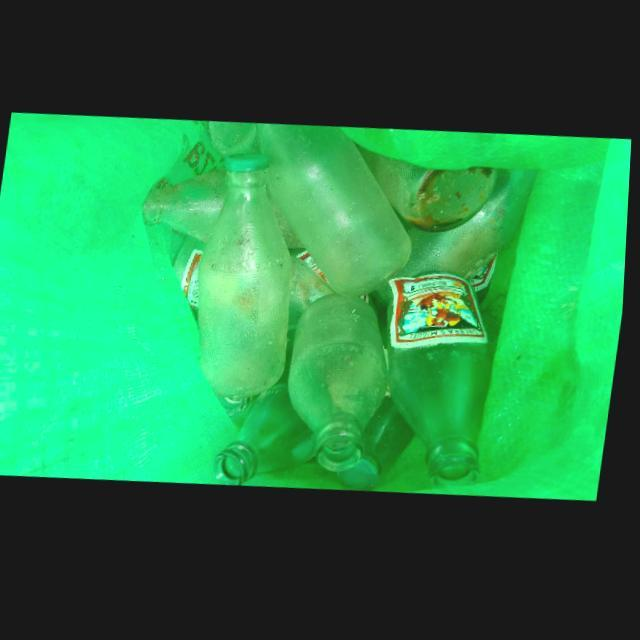glass: (256, 124, 414, 300), (390, 274, 497, 492), (200, 155, 294, 400), (291, 296, 392, 475), (396, 172, 540, 283), (356, 146, 511, 236), (219, 383, 319, 487), (144, 168, 229, 243)
